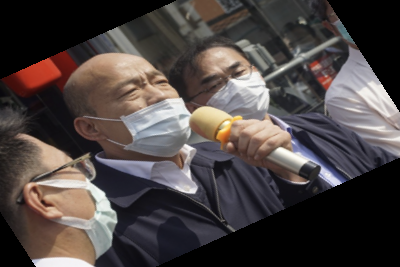mask_weared_incorrect: (62, 49, 195, 160)
